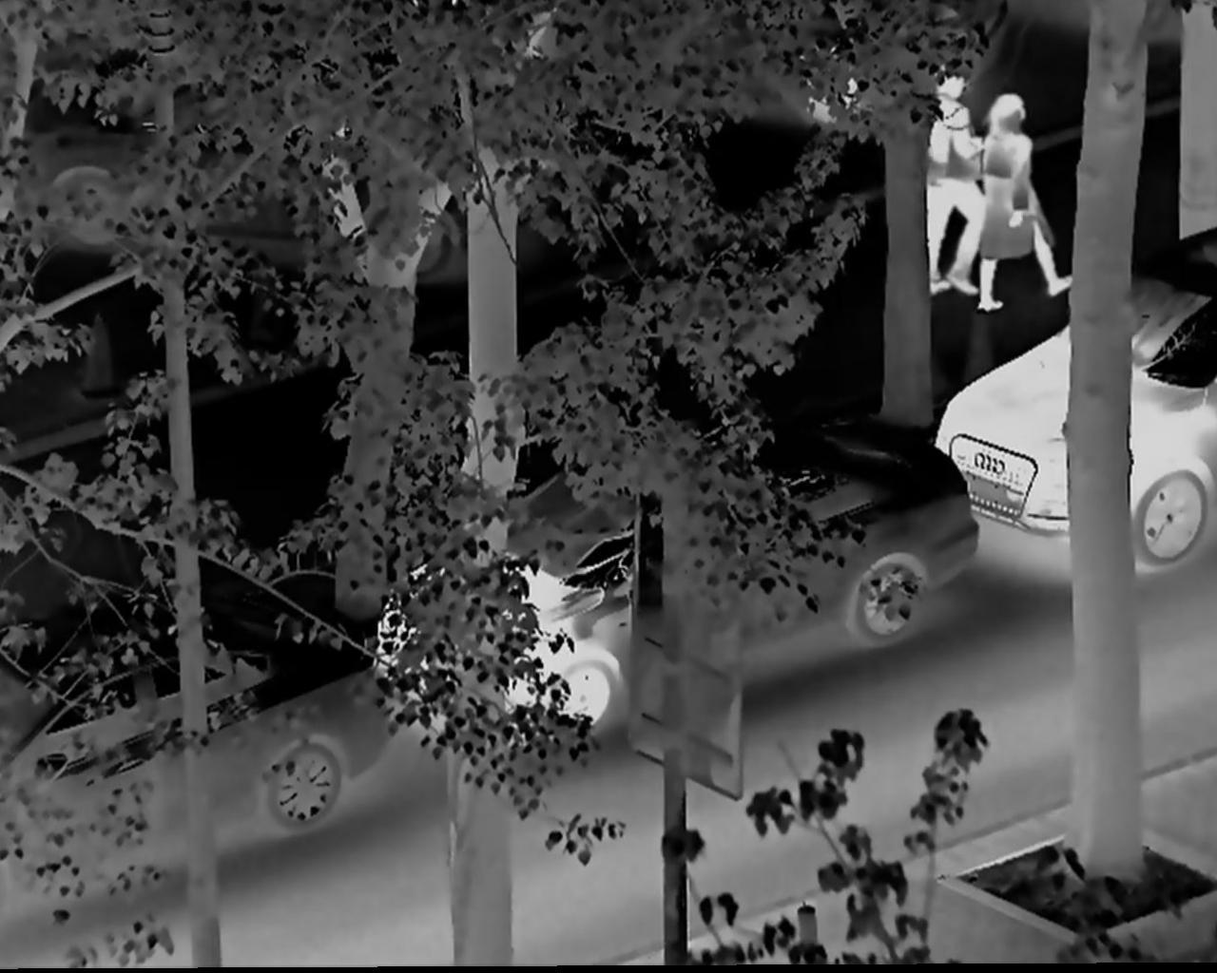person: (976, 89, 1078, 327), (929, 56, 984, 305)
